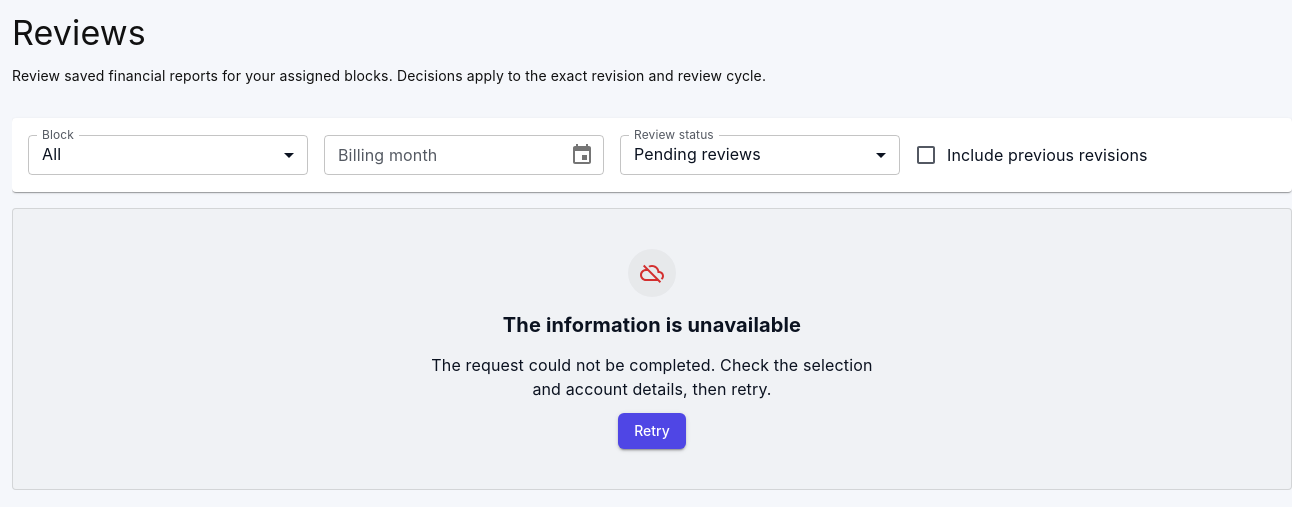
Test: backend censor review queue › shows an error with retry independently of a successful empty queue
Expected: the text "request could not be completed" is shown, left=431, top=355, right=873, bottom=399
Expected: the text "No reviews match this selection" is not shown
Click the button "Retry": (652, 431) left=618, top=413, right=686, bottom=449
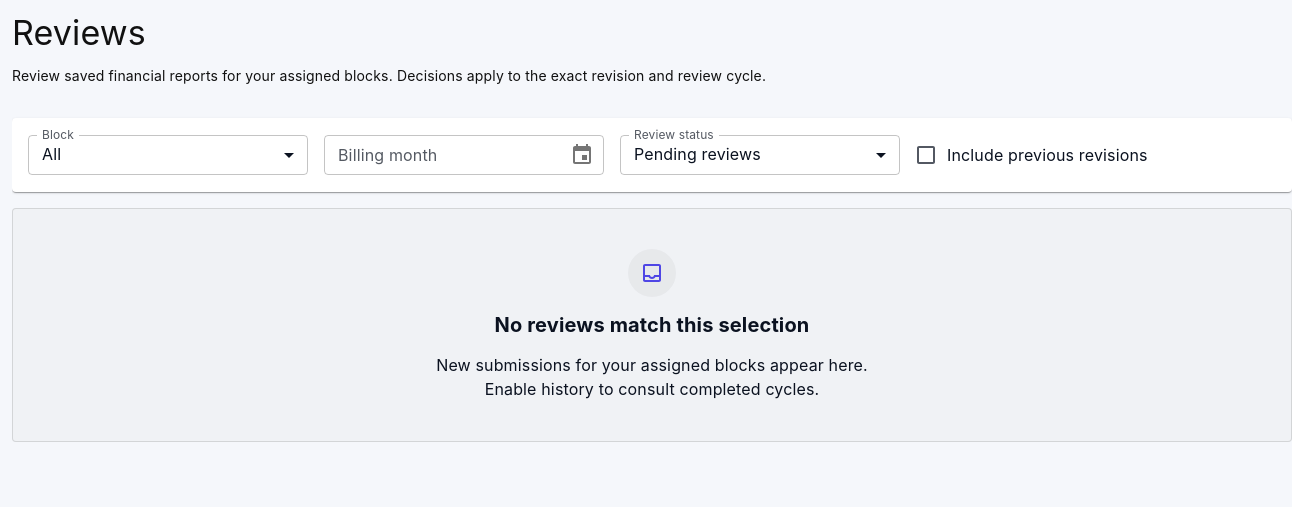
Expected: the heading "No reviews match this selection" is shown, left=494, top=309, right=809, bottom=341
